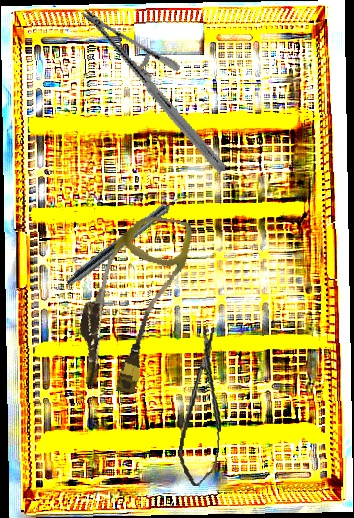Cannula: (68, 205, 195, 400)
Handpiece: (64, 187, 191, 291)
Micro Scissor: (174, 324, 234, 489)
Needle Holder: (46, 7, 261, 174)
